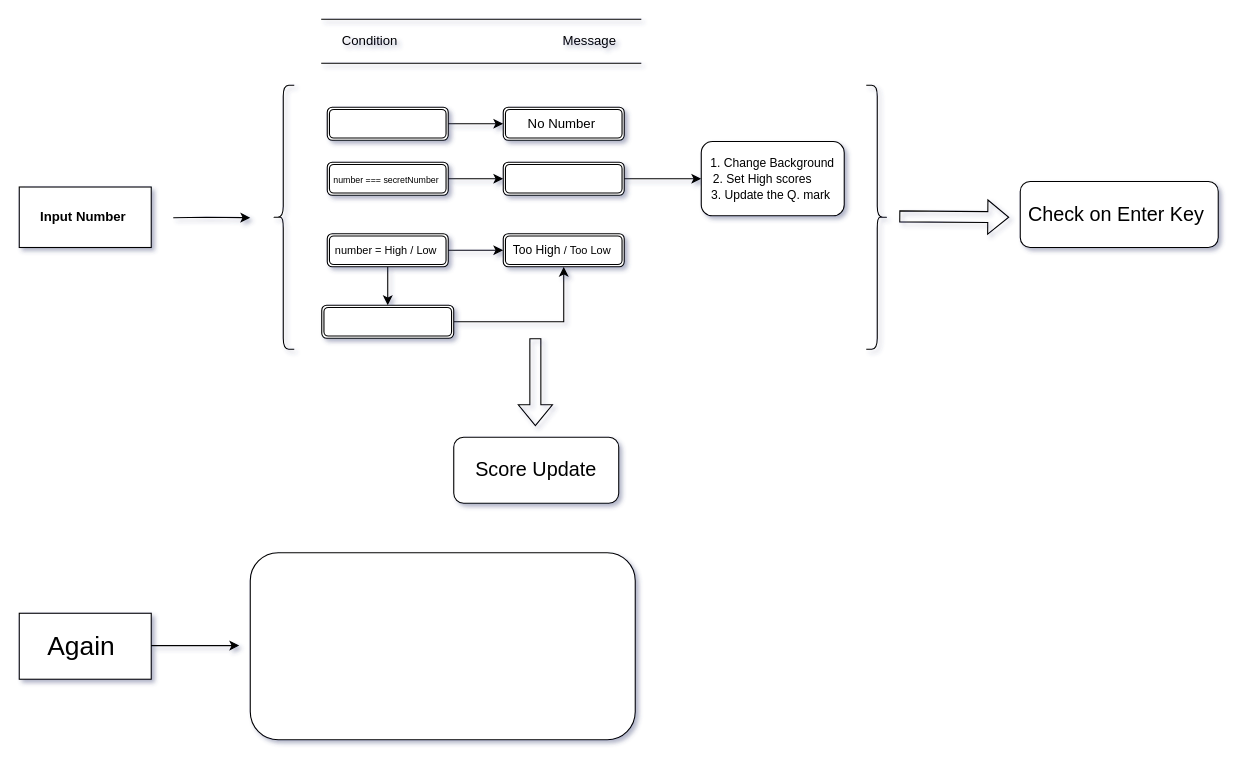
Some shapes in this 1244 by 766 pixel diagram are drawn without their labels. Here are the shapes that lost their labels. From the top down, the box of each, then its label:
(326, 106, 448, 140): If Not a number
(502, 161, 624, 195): Correct Number
(321, 304, 454, 338): Number = Not between 1 to 20
(249, 552, 635, 740): Reset 1. score 2. background 3. secret Number 4. Q mark 5. message
